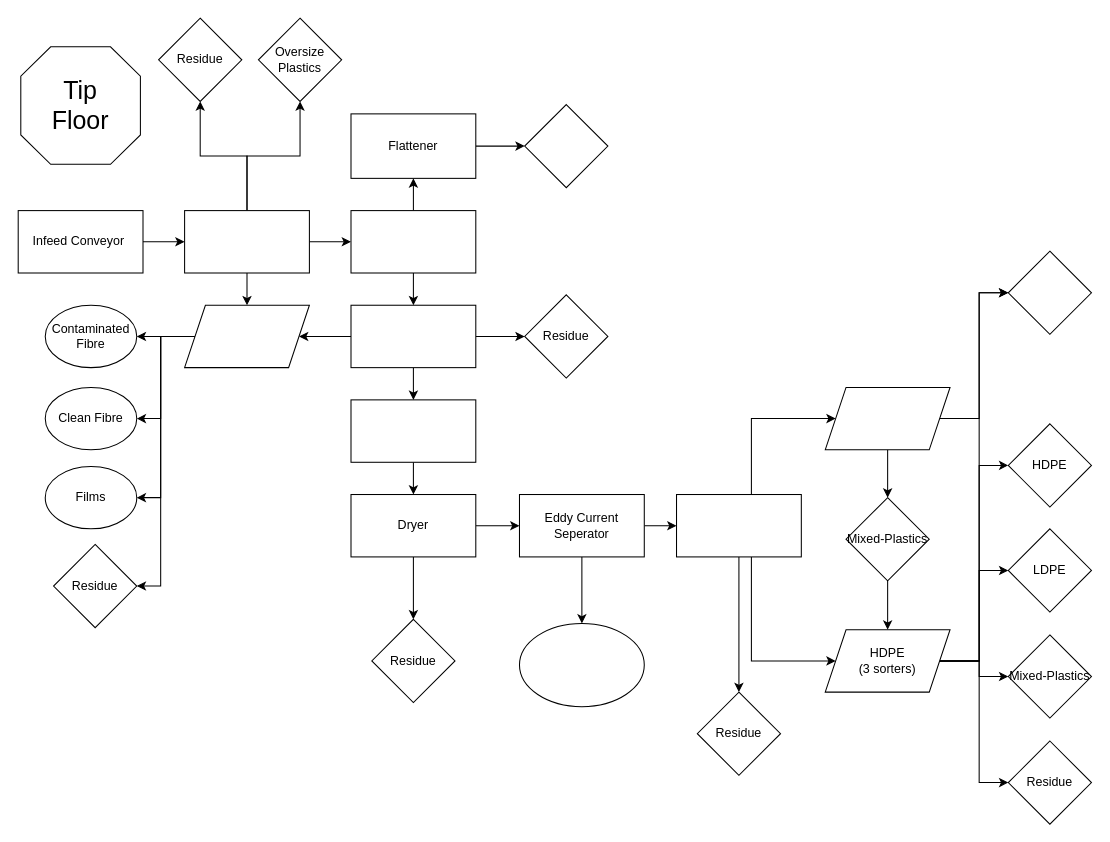
This 1110x842 diagram has some shape labels left out. The centre of each missing label's shape, as x and y in pixels:
"Aluminum" goes at (581,664).
"Ferrous" goes at (566,145).
"Films/Fibre (3 sorters)" goes at (246,336).
"Magnet" goes at (413,241).
"Optical Sortor" goes at (738,525).
"Perforator" goes at (413,430).
"PET" goes at (1049,292).
"PET (1 sorter)" goes at (887,418).
"Pre-sort" goes at (246,241).
"Screen" goes at (413,336).
